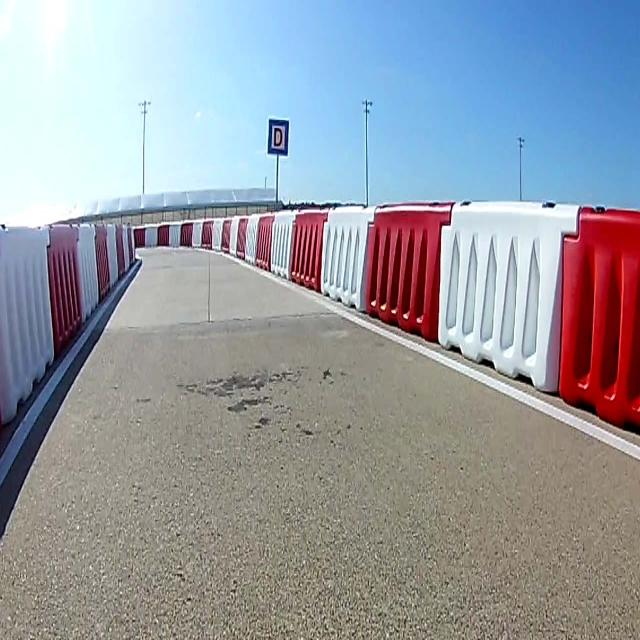durak: (268, 118, 290, 155)
